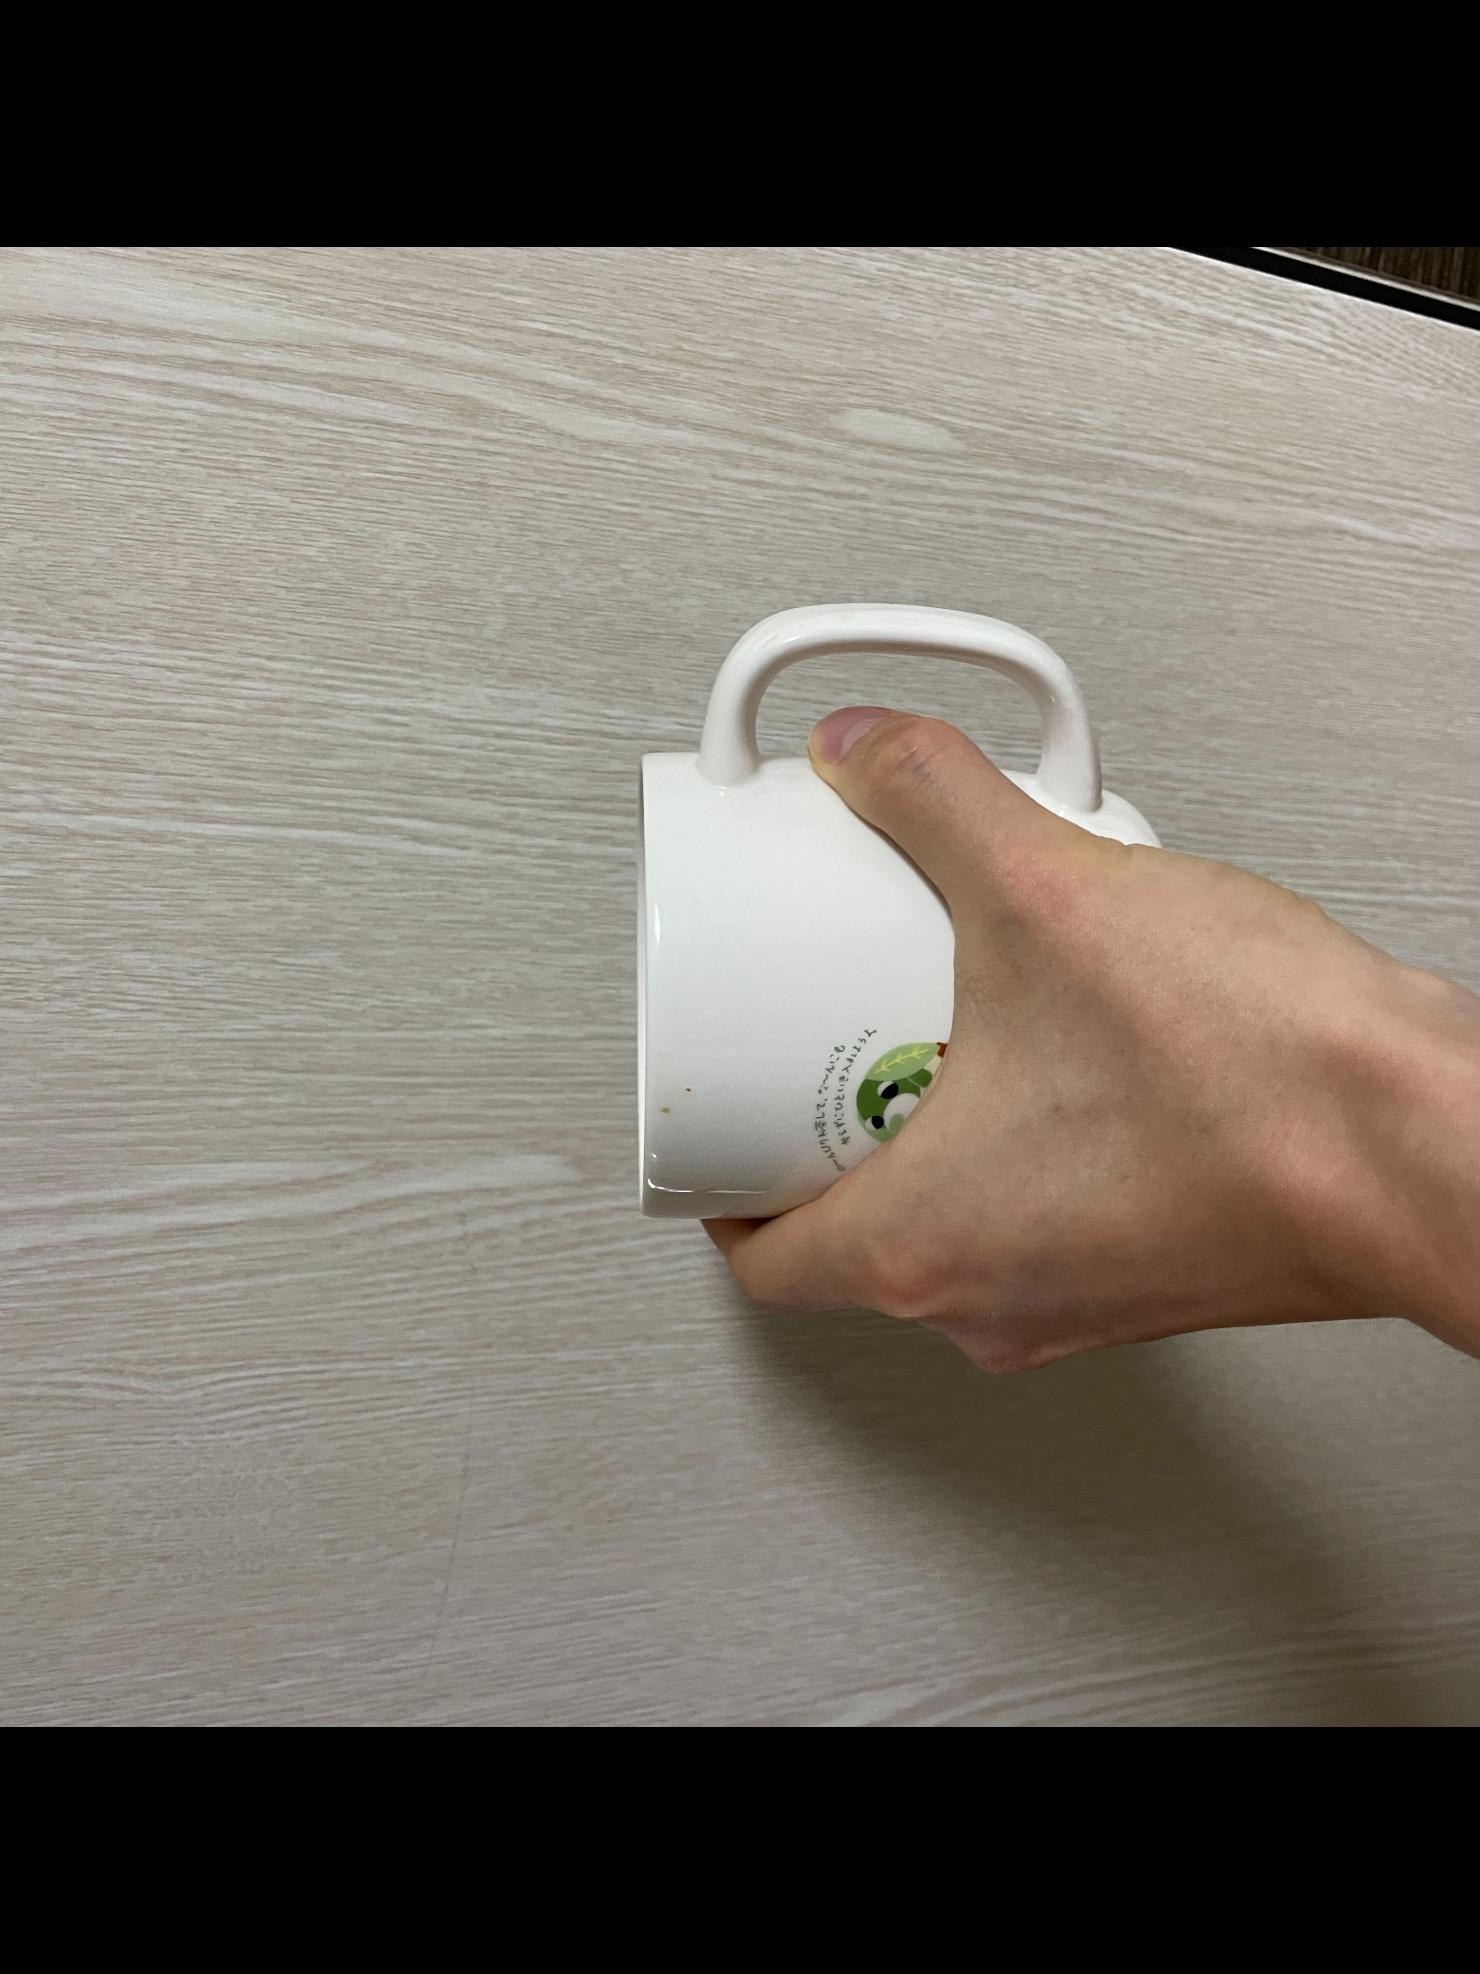cup: (613, 589, 1463, 1380)
